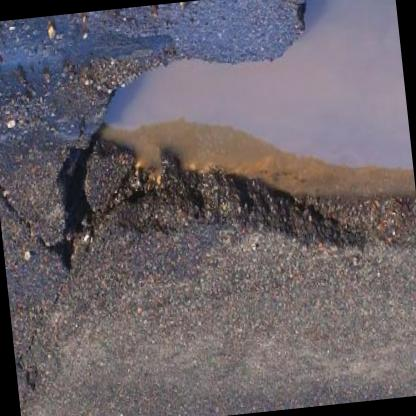pothole: (31, 0, 416, 294)
